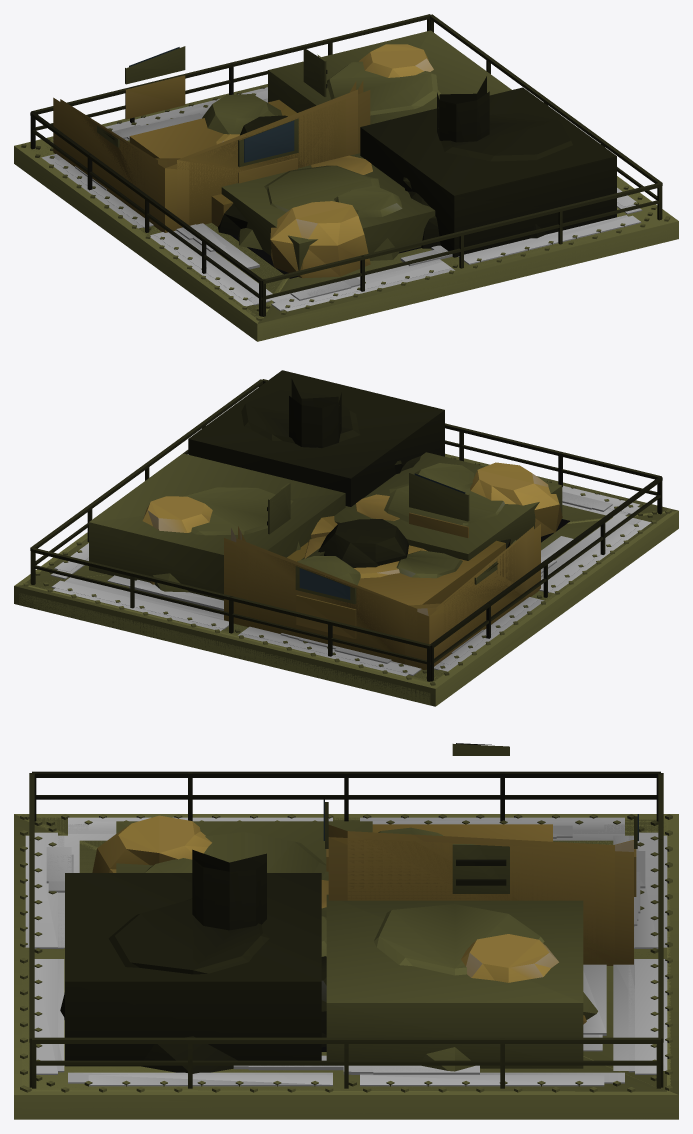
File: meridian_radar_heavily_damaged.glb
The picture shows the model from 3 angles, top to bottom: view 1: azimuth 30°, elevation 25°; view 2: azimuth 150°, elevation 25°; view 3: azimuth 270°, elevation 25°; orthographic projection. The views are drawn at different scales.
Parts seen in each view (by area): view 1: body (×3); view 2: body (×3); view 3: body (×3).
Boxes of the visible parts, x1,y1,x2,y2 form: body (×3): (14,14,678,341); body (×3): (14,370,678,706); body (×3): (14,743,678,1119).
Size of the model in its own units: 7.4 by 2.23 by 7.4.
